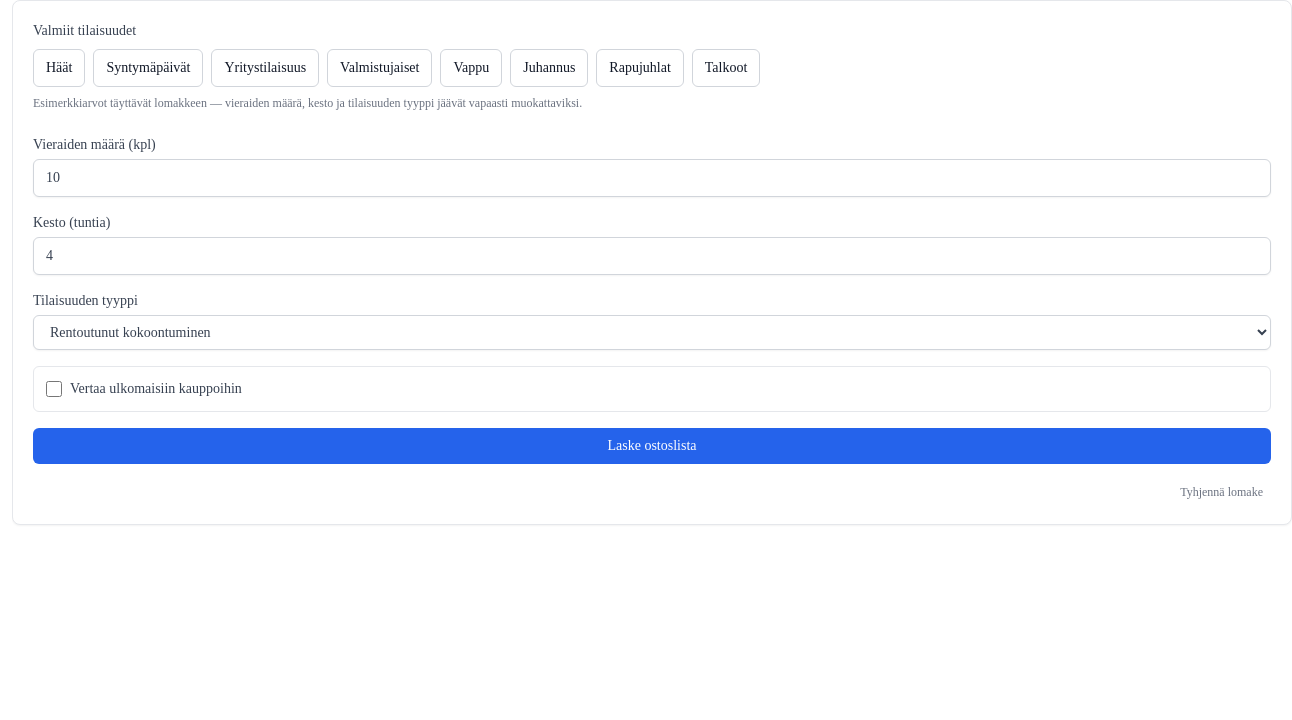
Test case: EventPage — estimate handoff (3.1) › offers no handoff on NO_PUBLISHED_NORMS
What coordinates should you click on to do the following:
click the button "Laske ostoslista"
I would click on:
 (652, 446)
Its box is [33, 428, 1271, 464].
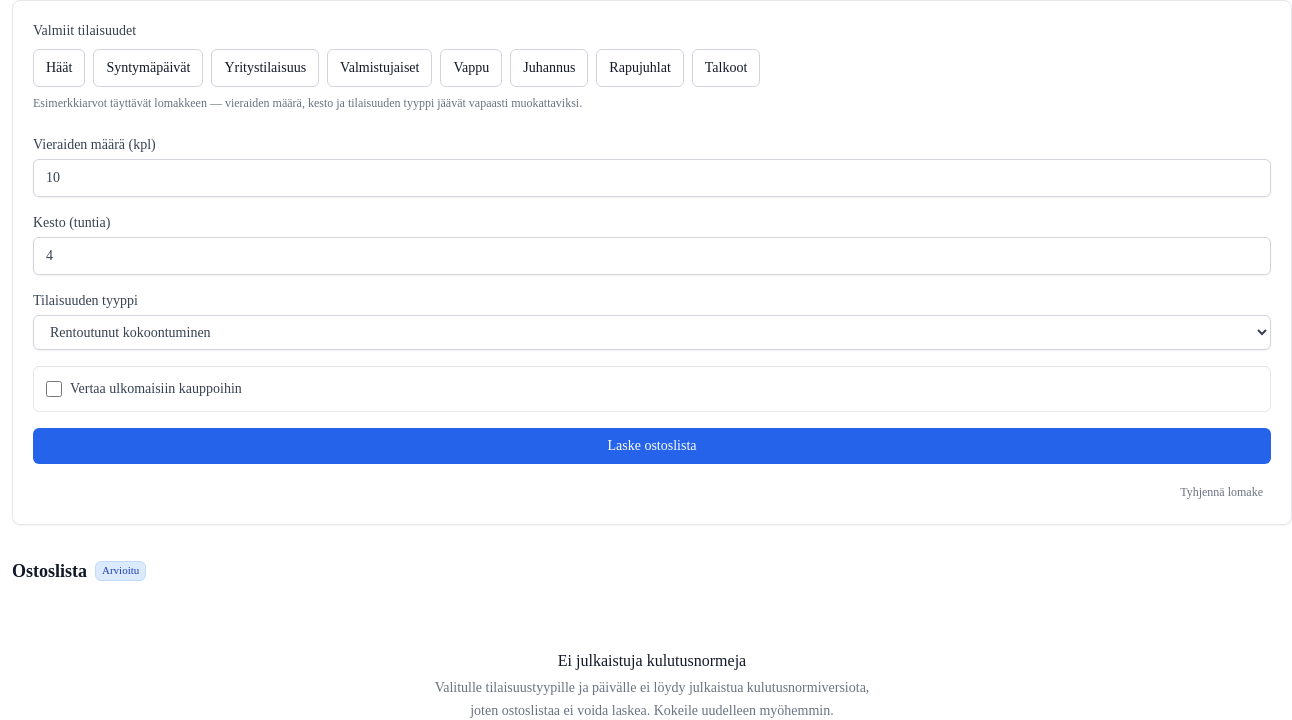
Check: the text "Ei julkaistuja kulutusnormeja" is shown, box [558, 652, 746, 669]
